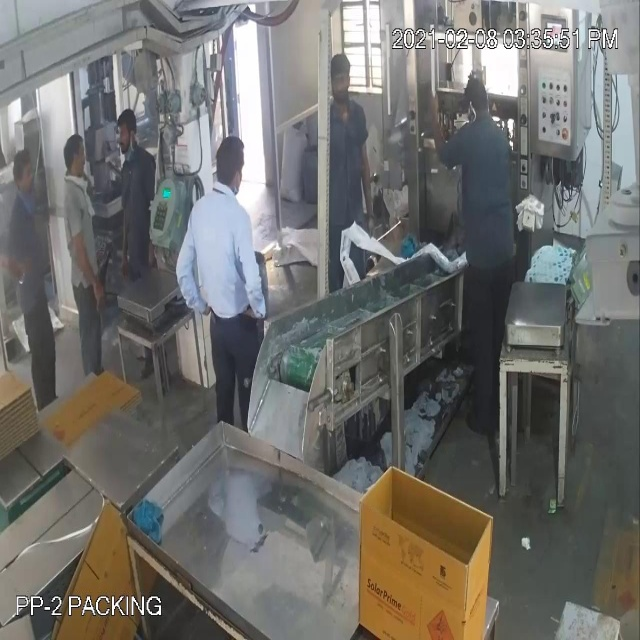Sin_guantes: (237, 215, 278, 353), (420, 71, 470, 167), (66, 226, 111, 326), (171, 213, 208, 322), (356, 113, 380, 247), (6, 222, 34, 291)
